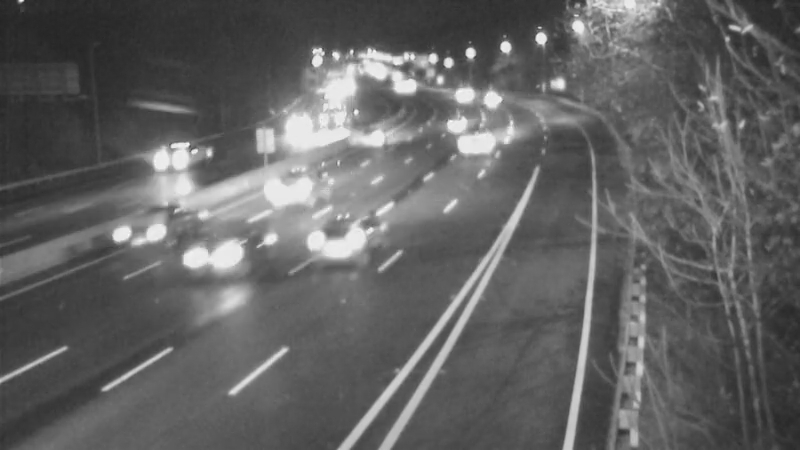vehicle: (248, 149, 328, 229), (300, 201, 380, 281), (173, 209, 253, 289), (99, 194, 179, 274), (129, 114, 209, 194), (432, 72, 482, 122), (467, 70, 517, 120), (431, 96, 481, 146), (351, 116, 401, 166), (450, 117, 500, 167), (275, 99, 325, 149), (303, 89, 353, 139)
